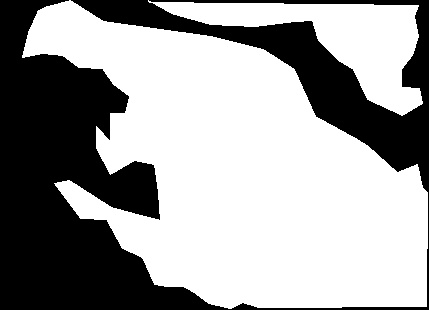fire: (83, 39, 242, 193)
